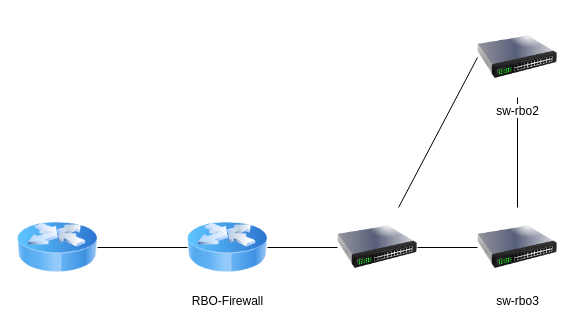
The diagram is 574 pixels wide and 325 high, and some of its shapes have lost their labels. The centre of each missing label's shape, as x and y in pixels:
RBO-edge: the point at 57,247
sw-rbo1: the point at 377,247
